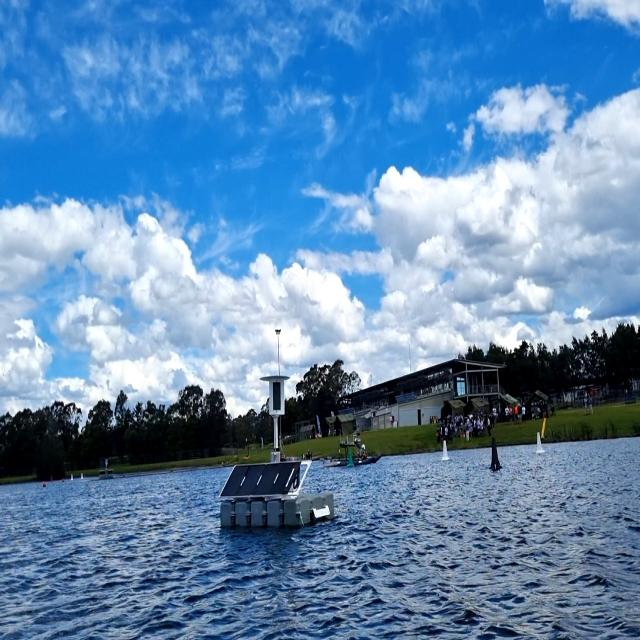led: (270, 379, 284, 413)
